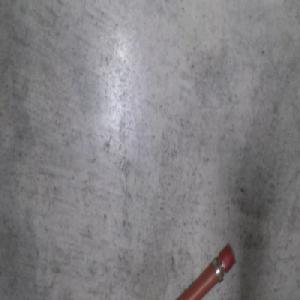Hose: (164, 238, 238, 300)
